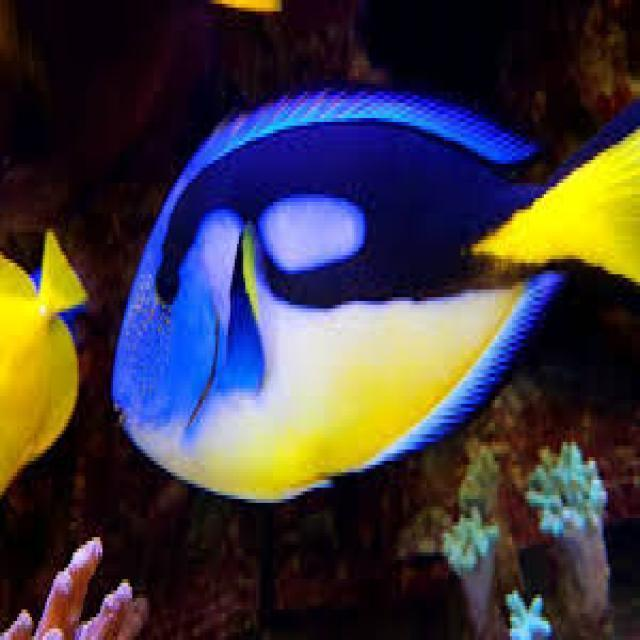TangFish: (103, 80, 640, 506)
